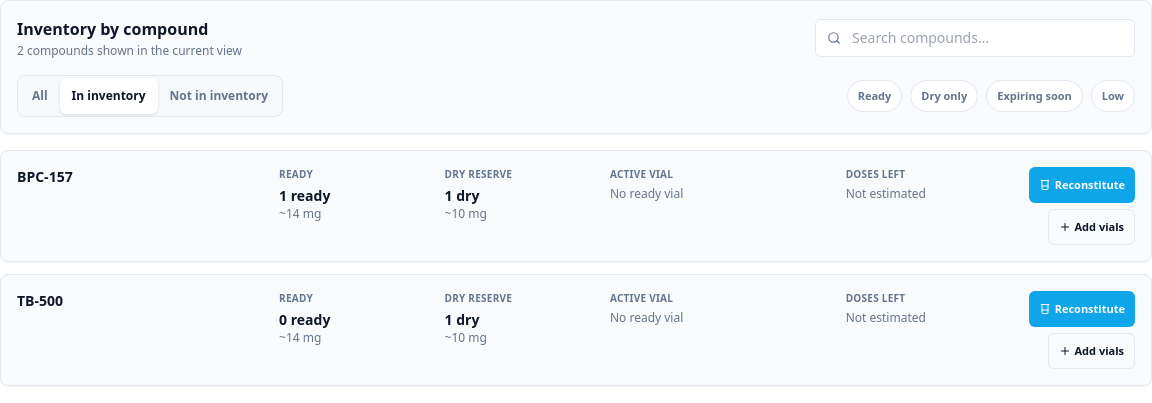
Test case: CompoundInventoryView › "Ready" chip keeps compounds with a reconstituted vial
Click the button "Ready": (874, 96) [847,80,902,112]
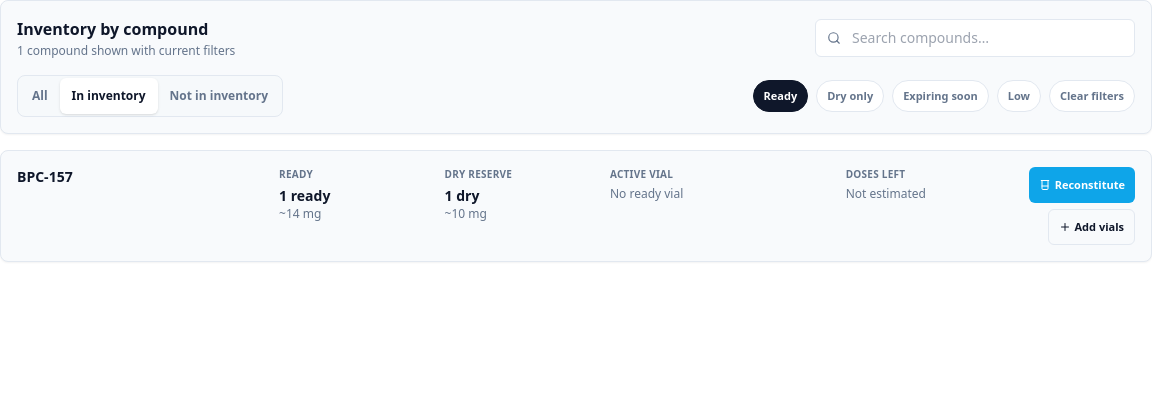
Expected: the heading "BPC-157" is shown, [17,167,73,186]
Result: the link "TB-500" is gone
